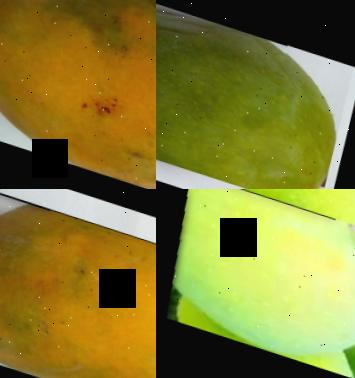PartiallyRipe: (0, 0, 156, 189), (0, 189, 156, 378)
Unripe: (156, 0, 355, 189), (156, 189, 355, 378)
